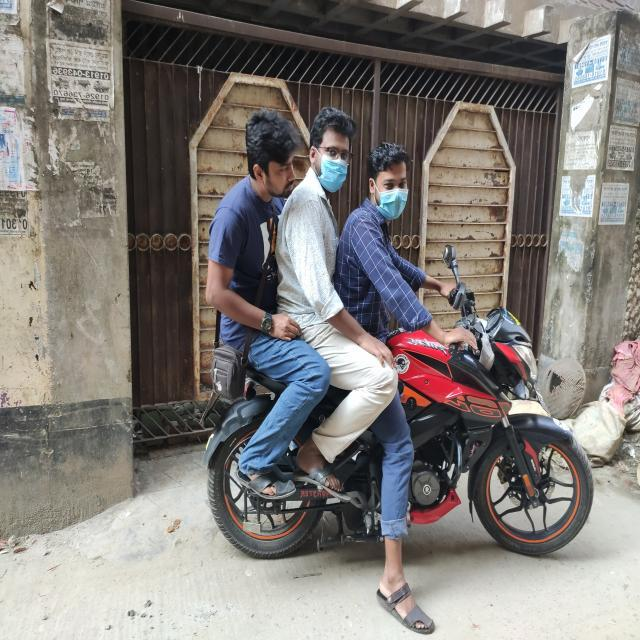Overloading: (181, 106, 579, 498)
